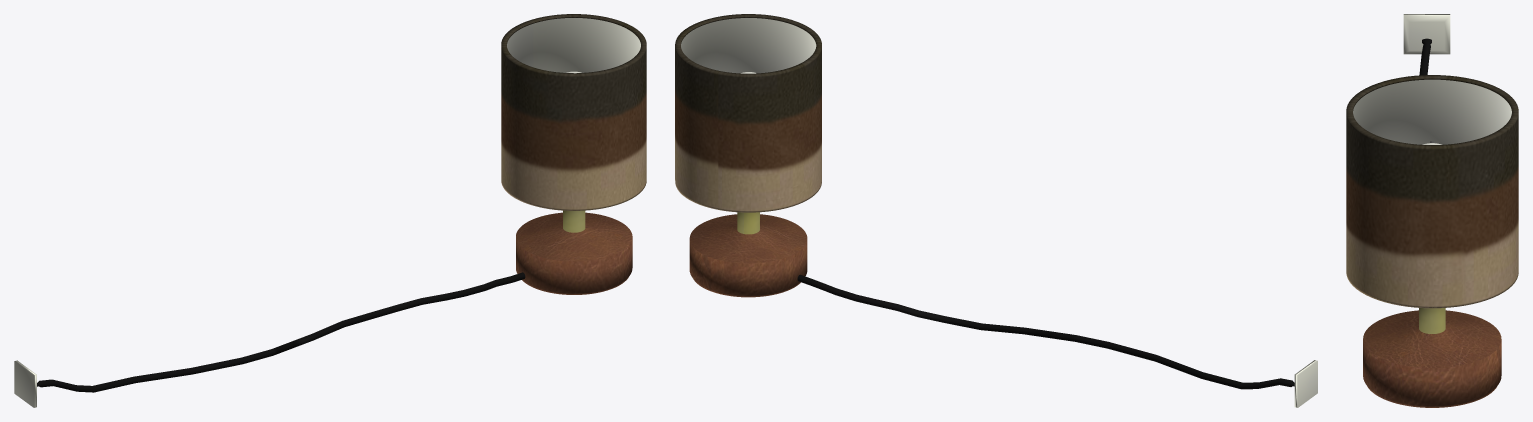
Rendered from Lamp_1.fbx.
The picture shows the model from 3 angles, left to right: view 1: azimuth 30°, elevation 25°; view 2: azimuth 150°, elevation 25°; view 3: azimuth 270°, elevation 25°; orthographic projection. The views are drawn at different scales.
Visible parts, largest first — view 1: Shade, Lamp_1, Power_Cord, Socket; view 2: Shade, Lamp_1, Power_Cord, Socket; view 3: Shade, Lamp_1, Socket, Power_Cord.
Part boxes in pixels (x1,y1,x2,y2): Shade: (501,14,646,210); Lamp_1: (516,210,632,294); Power_Cord: (37,272,525,392); Socket: (14,360,36,407); Shade: (675,14,821,212); Lamp_1: (689,212,807,297); Power_Cord: (797,274,1294,389); Socket: (1294,360,1317,407); Shade: (1346,75,1518,308); Lamp_1: (1363,141,1501,407); Socket: (1403,14,1450,54); Power_Cord: (1419,38,1431,75).
Size of the model in its own units: 104 by 36.54 by 21.31.
Materials: 3 (3 with a texture image).
